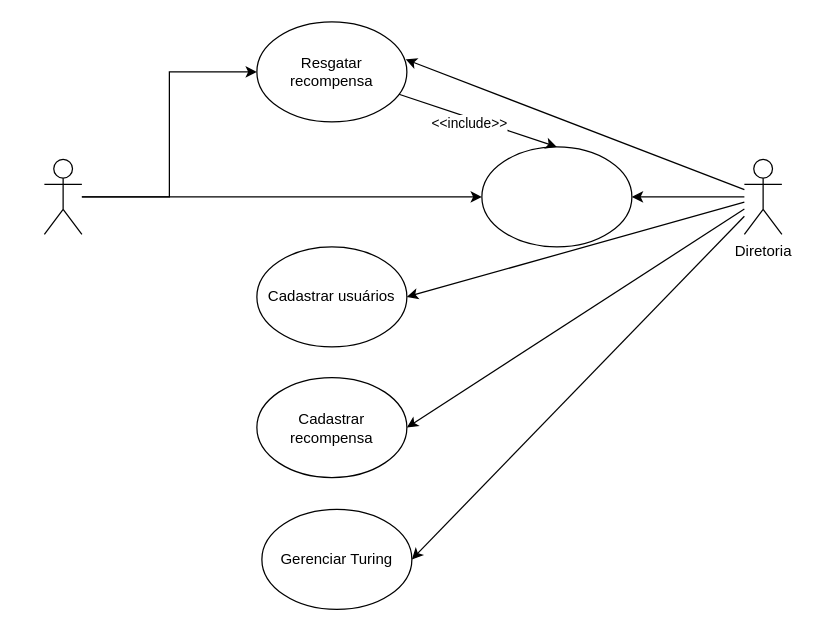
Some shapes in this 813 by 631 pixel diagram are drawn without their labels. Here are the shapes that lost their labels. From the top down, the centre of each, then its label:
At (x=62, y=196): "Colaborador".
At (x=556, y=196): "Visualizar saldo e extrato de Turing".
